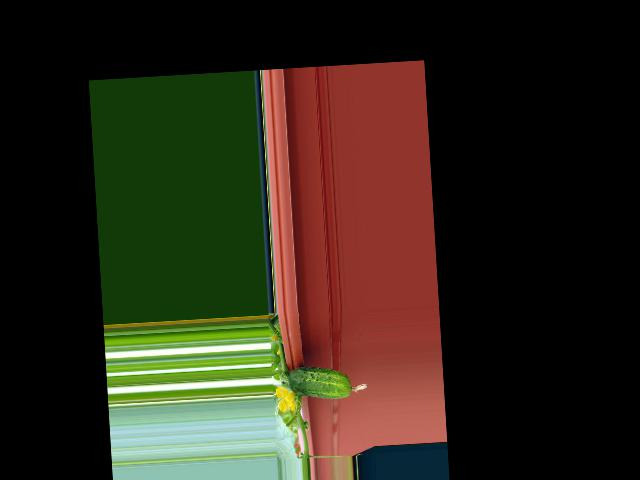cucumber: (287, 363, 368, 402)
